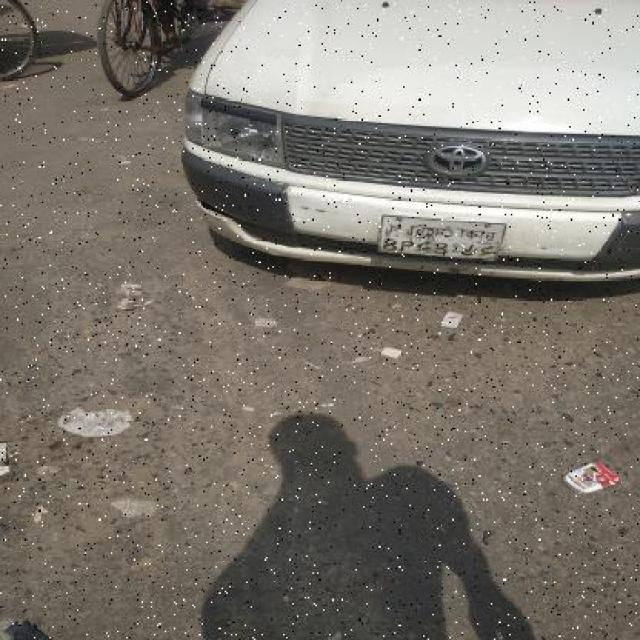numberplate: (376, 214, 506, 261)
